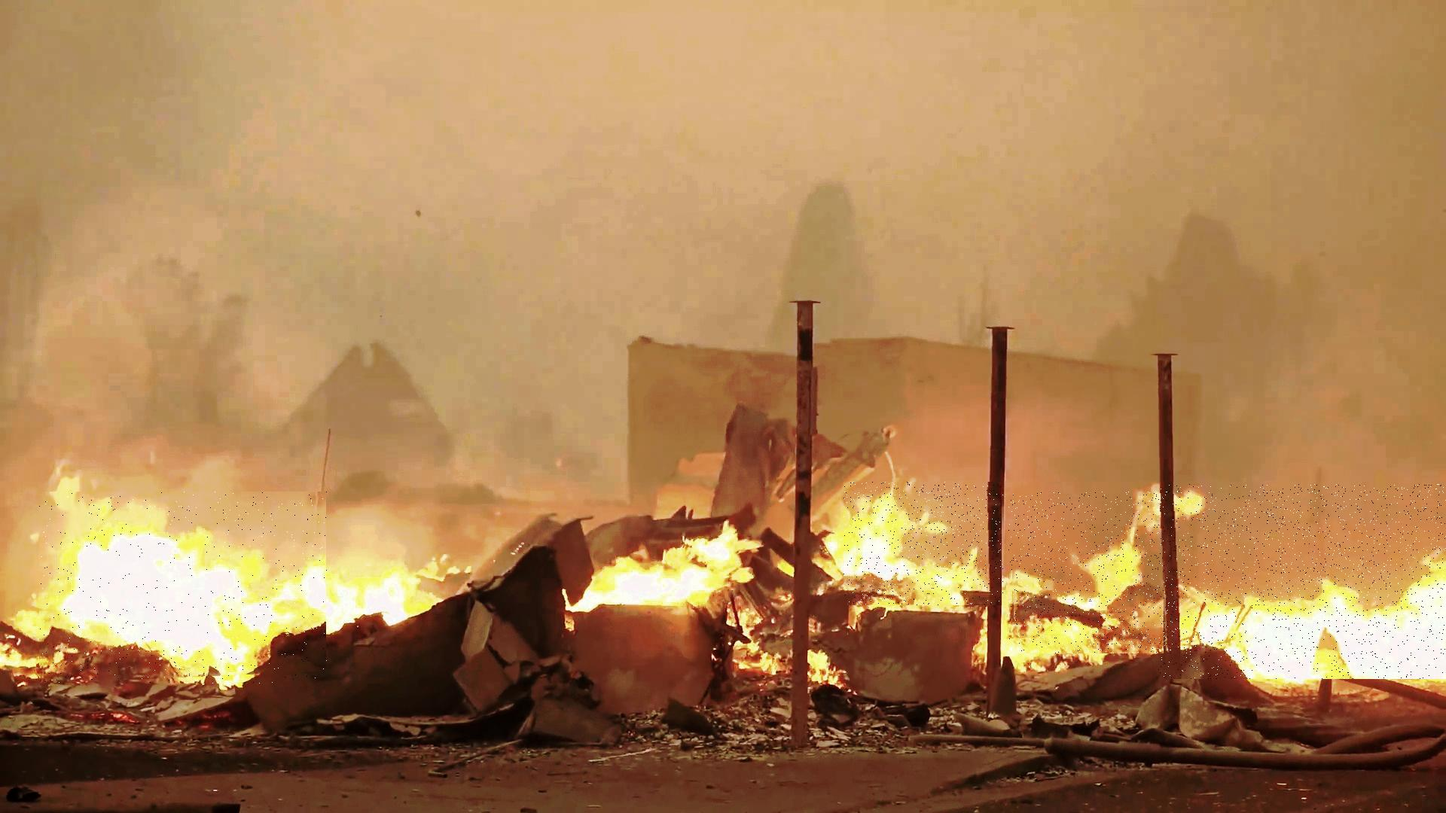fire: (1158, 484, 1446, 679), (40, 492, 328, 684), (1009, 492, 1164, 654), (844, 482, 1004, 606)
